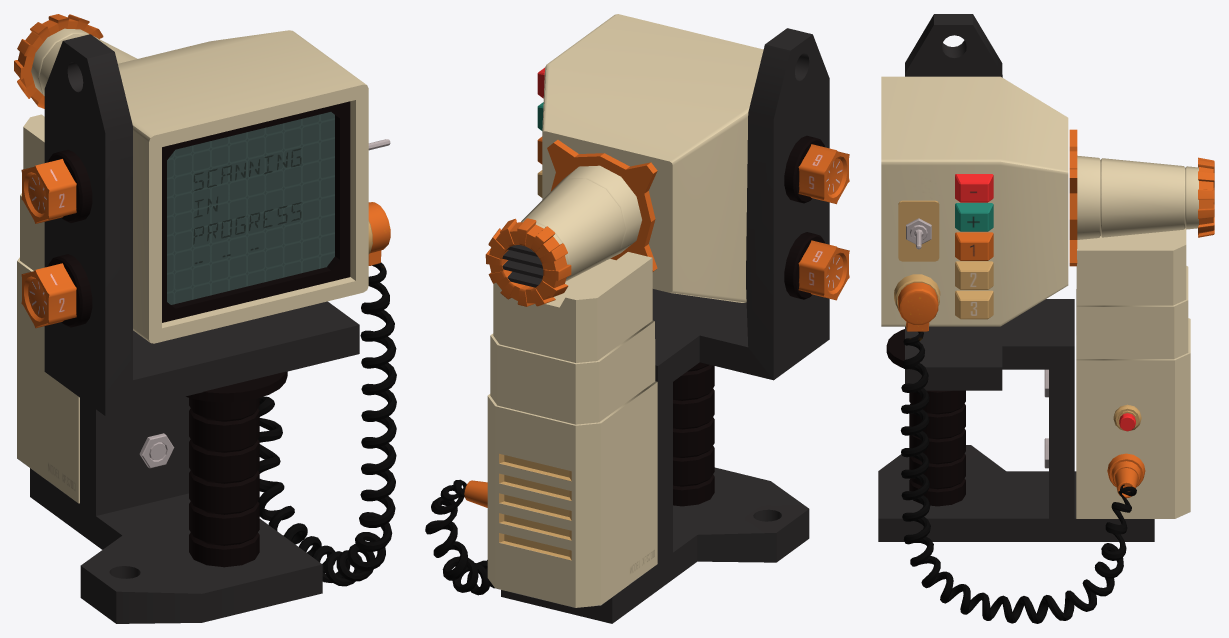
The model's file is retro_scanner.glb.
3 views of the same model, side by side, from view 1: azimuth 30°, elevation 25°; view 2: azimuth 150°, elevation 25°; view 3: azimuth 270°, elevation 25° (orthographic). The views are drawn at different scales.
Visible parts, largest first — view 1: Object_2, Object_3; view 2: Object_2, Object_3; view 3: Object_2, Object_3.
Boxes of the visible parts, left/top/right/bottom form: Object_2: left=14, top=14, right=396, bottom=623; Object_3: left=17, top=18, right=390, bottom=503; Object_2: left=425, top=28, right=849, bottom=623; Object_3: left=487, top=14, right=814, bottom=425; Object_2: left=878, top=14, right=1214, bottom=623; Object_3: left=881, top=14, right=1198, bottom=495.
Size of the model in its own units: 29.4 by 50.53 by 30.89.
Materials: 1 (1 with a texture image).
